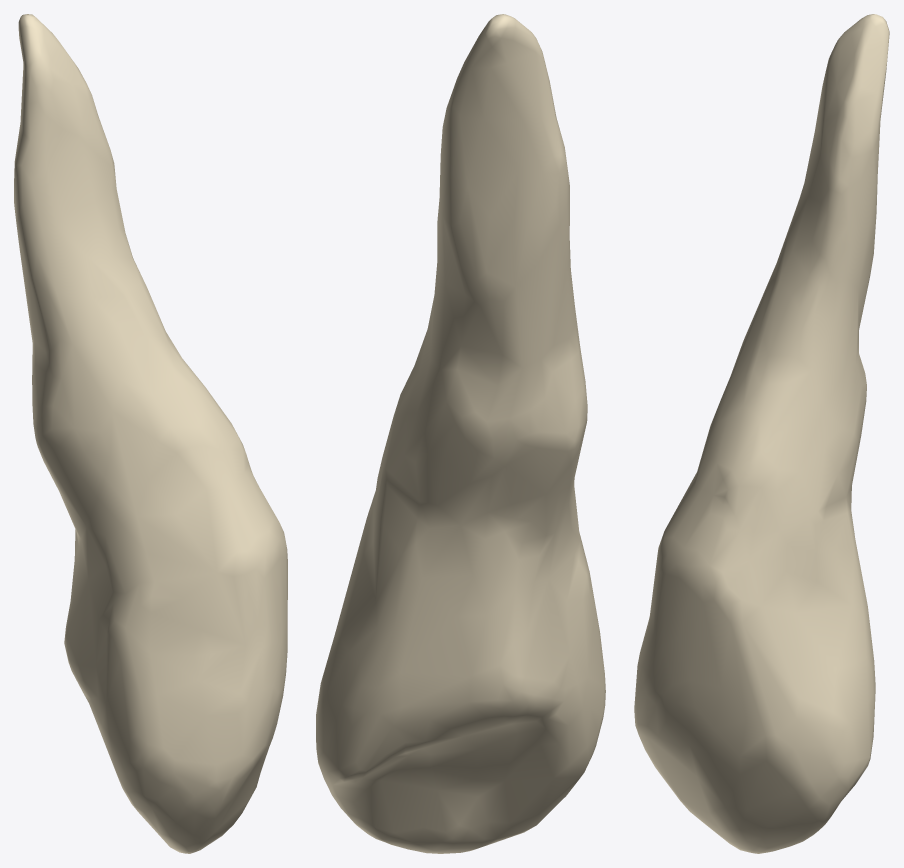
Rendered from tooth-23.glb.
The picture shows the model from 3 angles, left to right: view 1: azimuth 30°, elevation 25°; view 2: azimuth 150°, elevation 25°; view 3: azimuth 270°, elevation 25°; orthographic projection. The views are drawn at different scales.
Visible parts, largest first — view 1: tooth-23; view 2: tooth-23; view 3: tooth-23.
Boxes of the visible parts, box(x1,y1,x2,y2) form: tooth-23: box(14, 14, 287, 853); tooth-23: box(316, 14, 605, 853); tooth-23: box(634, 14, 889, 853).
Bounding box in the file's own units: 0.2312 × 0.7845 × 0.2326.
